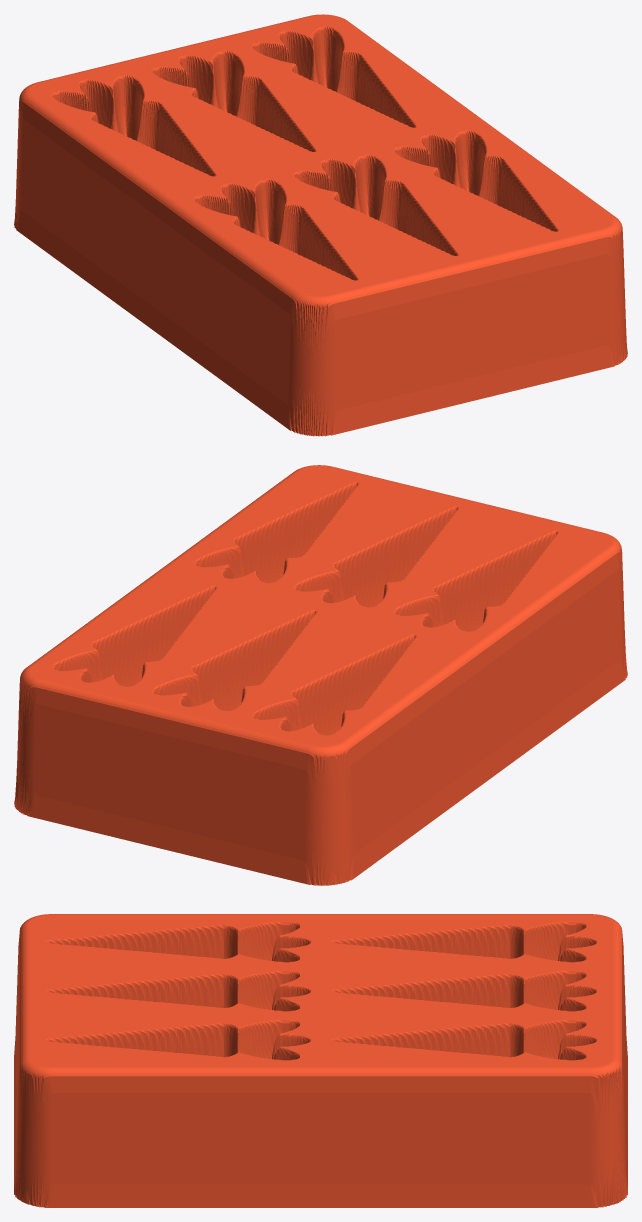
Rendered from mold.glb.
The picture shows the model from 3 angles, top to bottom: view 1: azimuth 30°, elevation 25°; view 2: azimuth 150°, elevation 25°; view 3: azimuth 270°, elevation 25°; orthographic projection.
Visible parts, largest first — view 1: geometry_0; view 2: geometry_0; view 3: geometry_0.
Part boxes in pixels (box(x1,y1,x2,y2)): geometry_0: box(14, 14, 627, 436); geometry_0: box(14, 465, 627, 885); geometry_0: box(14, 914, 627, 1207).
Size of the model in its own units: 0.0949 by 0.036 by 0.1492.
